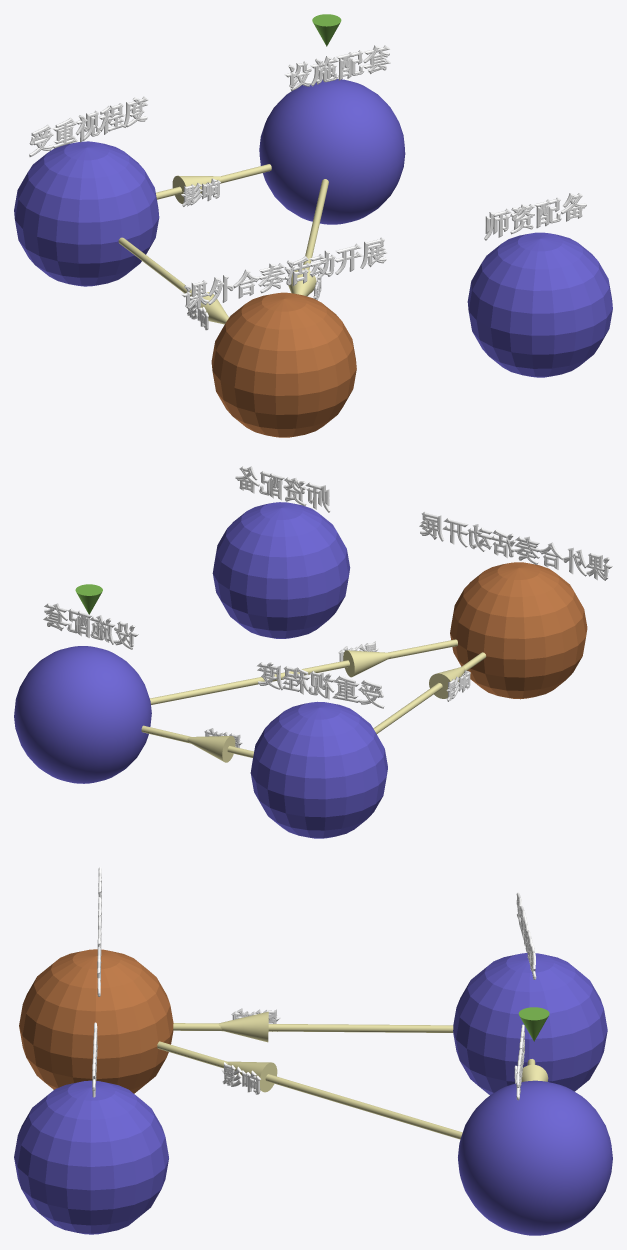
3 views of the same model, one above another, from view 1: azimuth 30°, elevation 25°; view 2: azimuth 150°, elevation 25°; view 3: azimuth 270°, elevation 25° (orthographic). The views are drawn at different scales.
Visible parts, largest first — view 1: Sphere006, Sphere009, Sphere007, Sphere008, Text027, Text028, Obj_Text031, Text032, Line004, Text031, Line006, Line007 (+1 smaller); view 2: Sphere008, Sphere009, Sphere007, Sphere006, Text027, Text028, Obj_Text031, Text032, Line004, Cone077, Cone074, Line006 (+3 smaller); view 3: Sphere008, Sphere009, Sphere006, Sphere007, Line004, Line006, Cone076, Text037, Cone077, Text028, Cone031, Text027.
Boxes of the visible parts, x1,y1,x2,y2 form: Sphere006: (211, 292, 356, 437); Sphere009: (467, 232, 612, 377); Sphere007: (14, 141, 159, 286); Sphere008: (259, 79, 405, 224); Text027: (181, 237, 387, 309); Text028: (29, 96, 148, 156); Obj_Text031: (284, 45, 390, 90); Text032: (484, 193, 586, 240); Line004: (303, 179, 328, 270); Text031: (181, 178, 220, 206); Line006: (118, 237, 226, 323); Line007: (156, 164, 271, 199); Sphere008: (14, 646, 151, 783); Sphere009: (212, 502, 350, 638); Sphere007: (250, 701, 387, 838); Sphere006: (450, 562, 587, 699); Text027: (419, 511, 612, 580); Text028: (257, 662, 384, 708); Obj_Text031: (43, 603, 138, 649); Text032: (235, 466, 330, 512); Line004: (149, 639, 457, 704); Cone077: (343, 650, 392, 677); Cone074: (187, 736, 235, 762); Line006: (373, 652, 486, 733); Sphere008: (458, 1080, 612, 1235); Sphere009: (14, 1080, 168, 1234); Sphere006: (19, 949, 173, 1093); Sphere007: (453, 953, 607, 1095); Line004: (157, 1041, 462, 1139); Line006: (173, 1023, 453, 1032); Cone076: (218, 1011, 268, 1042); Text037: (221, 1062, 260, 1094); Cone077: (227, 1061, 277, 1092); Text028: (516, 892, 536, 979); Cone031: (518, 1007, 549, 1041); Text027: (97, 867, 101, 996).
Size of the model in its own units: 0.8417 by 0.3822 by 0.9803.
